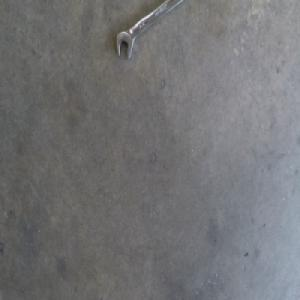Wrench: (115, 0, 179, 59)
